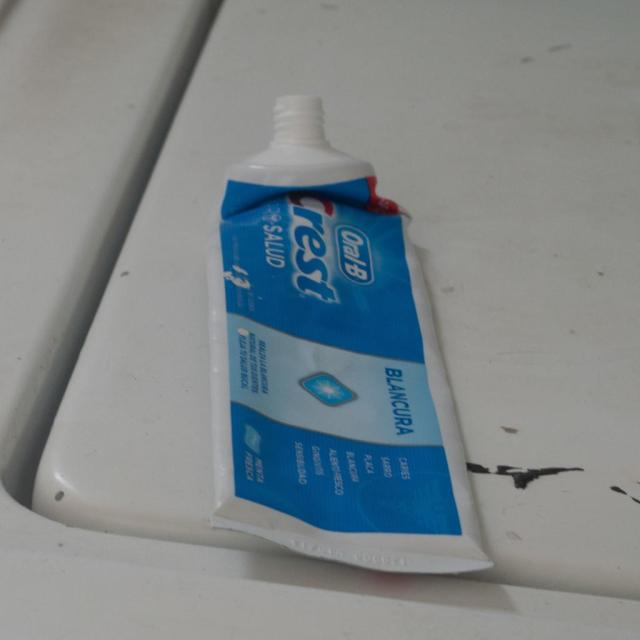Toothpaste: (206, 90, 503, 578)
